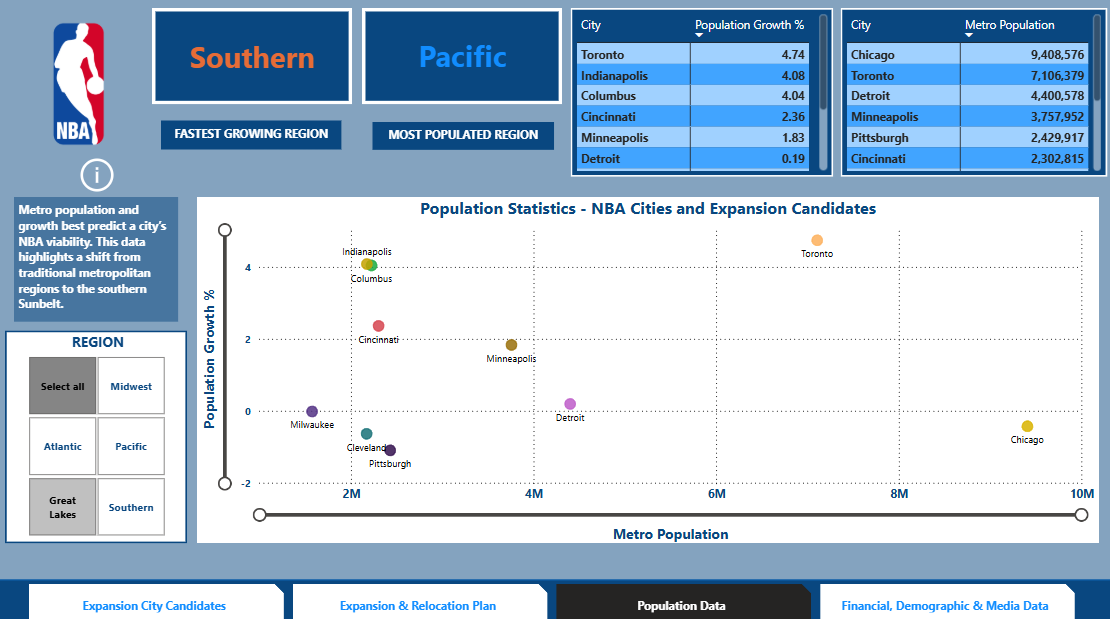

The dashboard page shown, as its layout file describes it:
{"tool":"powerbi","page":{"name":"Population Data","canvas":[1280,720],"ordinal":2},"visuals":[{"type":"shape","title":"Navigation Bar","box":[0,666.4,1280,53.9],"z":0},{"type":"image","title":"NBA Logo","box":[6.8,10.7,169.2,175.1],"z":1000},{"type":"card","fields":{"Values":["Min(Region Lookup.Region)"]},"box":[175.3,10.9,229.8,110.8],"z":2000},{"type":"pivotTable","fields":{"Rows":["All Cities WCS.City Name"],"Values":["Measure Table.Population Growth %"]},"box":[657,10.3,302.2,193.9],"z":3000},{"type":"scatterChart","title":"Population Statistics - NBA Cities and Expansion Candidates","fields":{"Category":["All Cities WCS.City Name"],"Y":["Measure Table.Population Growth %"],"X":["Measure Table.Total Metro Population"],"Series":["All Cities WCS.City ID"]},"box":[226.9,227.9,1036.6,397.1],"z":4000},{"type":"slicer","title":"REGION","fields":{"Values":["All Cities WCS.Region"]},"box":[7.2,380.6,209.4,244.4],"z":5000},{"type":"pivotTable","fields":{"Rows":["All Cities WCS.City Name"],"Values":["Measure Table.Total Metro Population"]},"box":[966.6,10.9,306.5,194.1],"z":6000},{"type":"textbox","box":[185.7,140.3,207.3,33],"z":7000},{"type":"card","fields":{"Values":["Min(Region Lookup.Region)"]},"box":[418,10.9,230.3,110.6],"z":8000},{"type":"textbox","box":[429.1,141.3,208.3,32],"z":9000},{"type":"actionButton","box":[87.7,178.4,49.5,49.5],"z":10000},{"type":"textbox","box":[17.5,227.9,188.8,143.4],"z":11000},{"type":"pageNavigator","box":[35,673,1203,42],"z":12000}]}

Visuals, with their boxes in screenshot pixels (x1, y1, x2, y2), scaled from the page's 1280x720 canvas onto the 1110x619 screenshot:
"Navigation Bar" shape: 0:573:1109:618
"NBA Logo" image: 6:9:153:160
card - Min(Region Lookup.Region): 152:9:351:105
pivotTable - All Cities WCS.City Name x Measure Table.Population Growth %: 570:9:832:176
"Population Statistics - NBA Cities and Expansion Candidates" scatterChart: 197:196:1096:537
"REGION" slicer: 6:327:188:537
pivotTable - All Cities WCS.City Name x Measure Table.Total Metro Population: 838:9:1104:176
textbox: 161:121:341:149
card - Min(Region Lookup.Region): 362:9:562:104
textbox: 372:121:553:149
actionButton: 76:153:119:196
textbox: 15:196:179:319
pageNavigator: 30:579:1074:615
